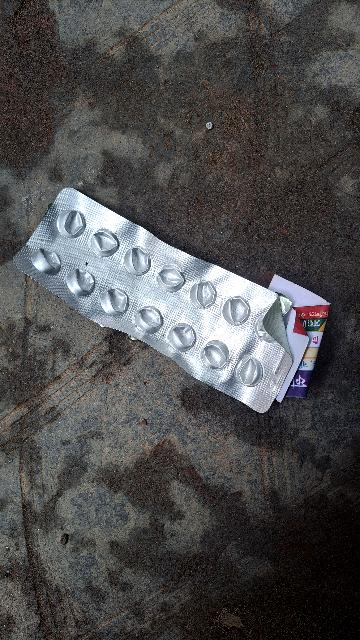medicine: (1, 169, 328, 421)
